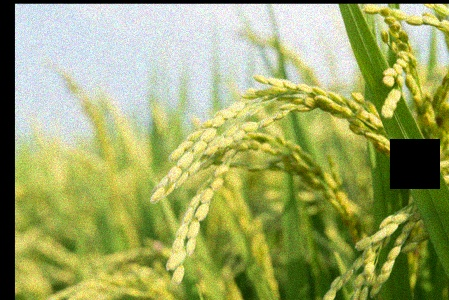rice: (144, 60, 391, 282)
